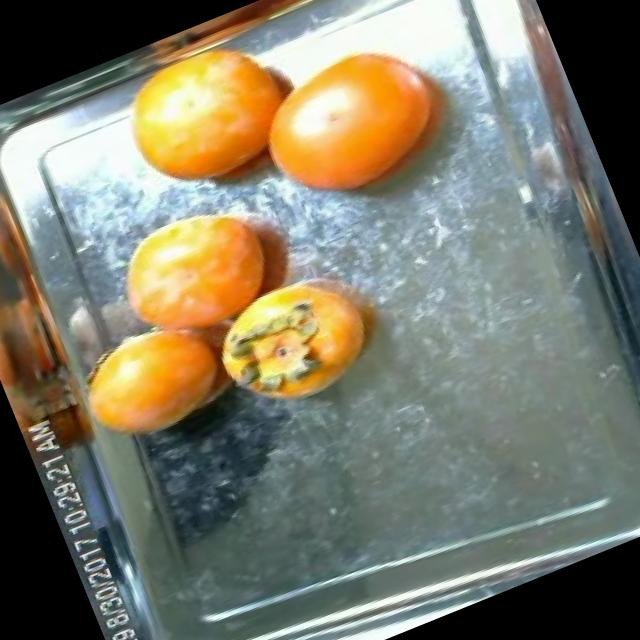Fruit: (80, 162, 327, 384), (92, 14, 330, 228), (57, 299, 244, 466)
